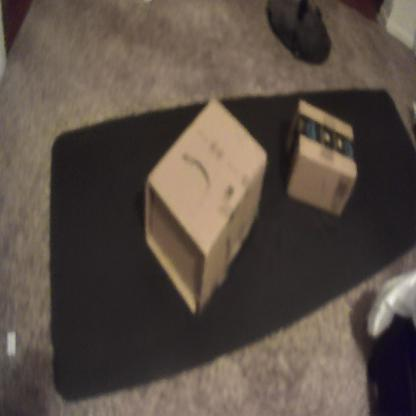package: (142, 94, 269, 324), (279, 98, 360, 222)
